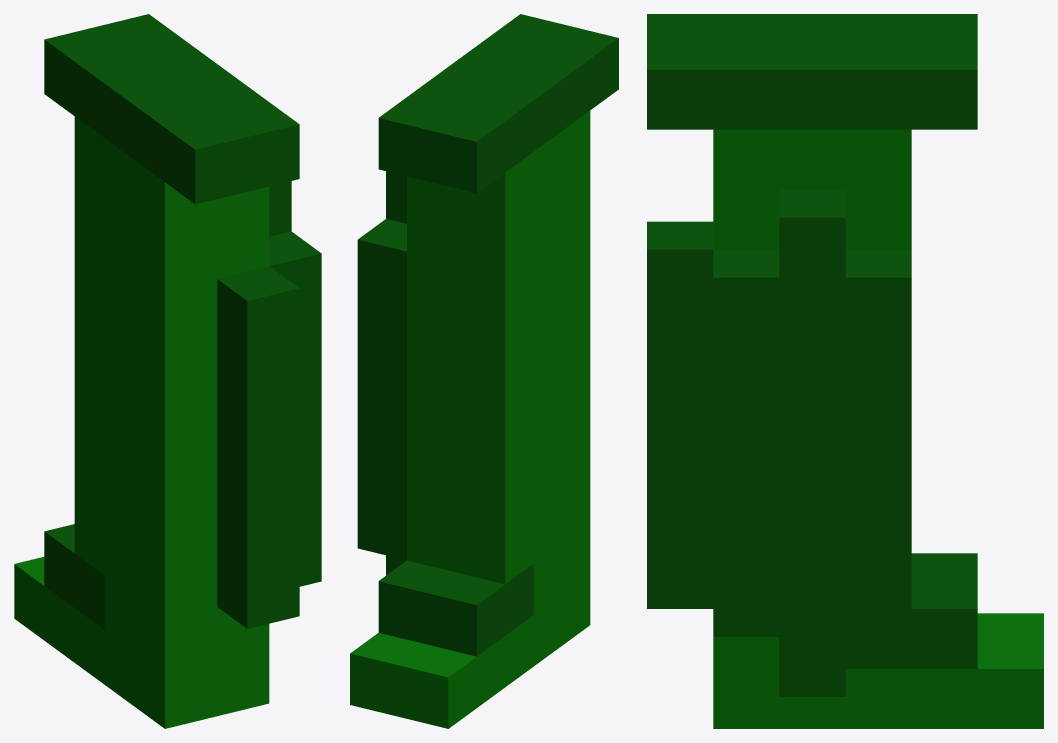
Rendered from Foot.fbx.
The picture shows the model from 3 angles, left to right: view 1: azimuth 30°, elevation 25°; view 2: azimuth 150°, elevation 25°; view 3: azimuth 270°, elevation 25°; orthographic projection. The views are drawn at different scales.
Visible parts, largest first — view 1: Куб.056; view 2: Куб.056; view 3: Куб.056.
Boxes of the visible parts, x1,y1,x2,y2 form: Куб.056: (14,14,321,728); Куб.056: (350,14,618,728); Куб.056: (647,14,1043,728).
Size of the model in its own units: 300 by 1100 by 600.
